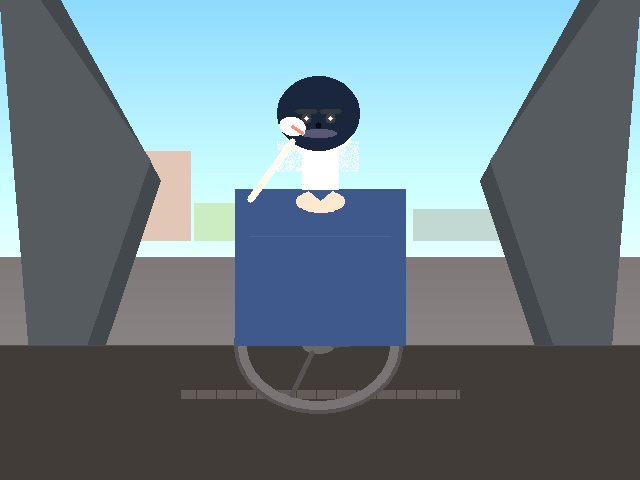smoking: (282, 111, 313, 141)
